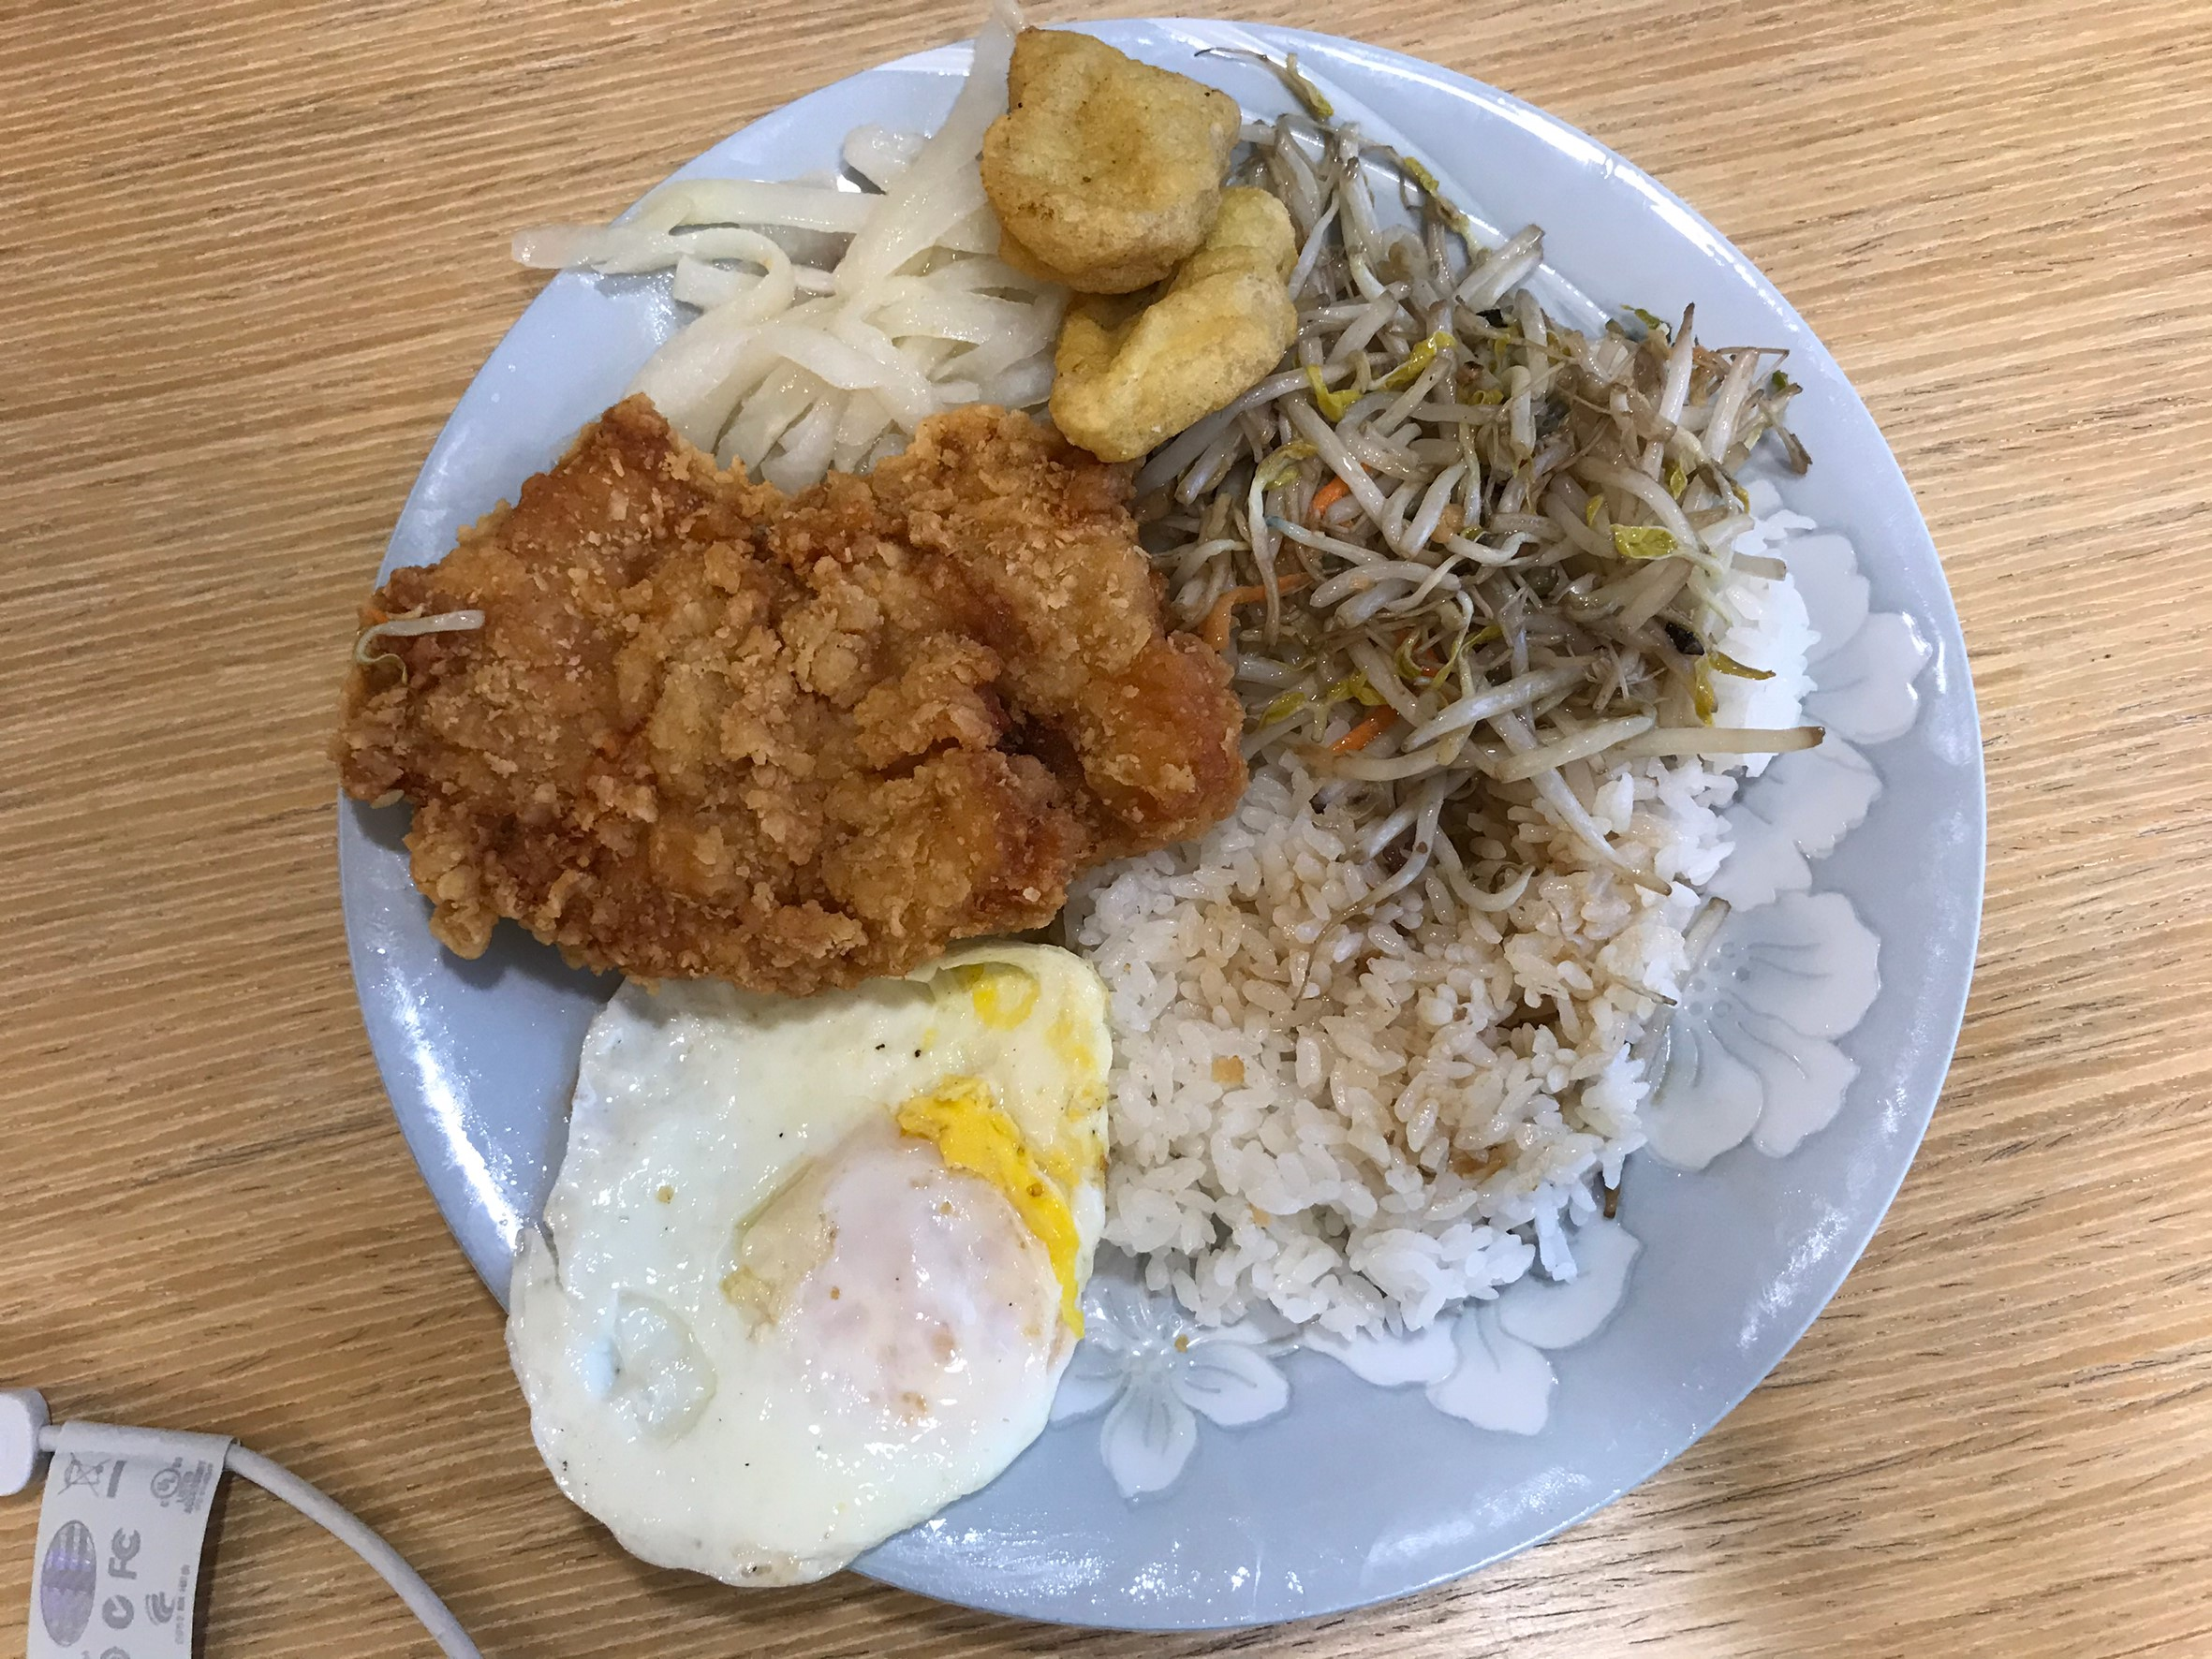chicken_nuggets: (990, 19, 1304, 455)
fried_chicken: (336, 387, 1243, 988)
fried_eggs: (499, 950, 1103, 1588)
mung_bean_sprouts: (1286, 296, 1729, 800)
rice: (1128, 863, 1630, 1314)
